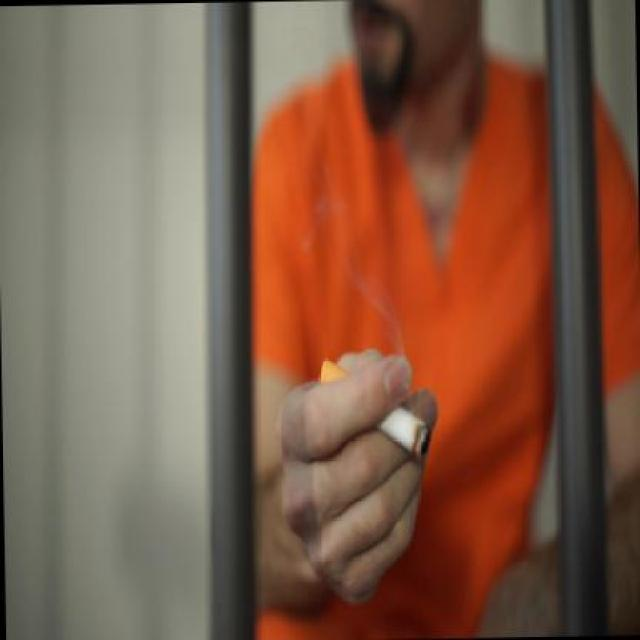smoke: (317, 354, 431, 463)
